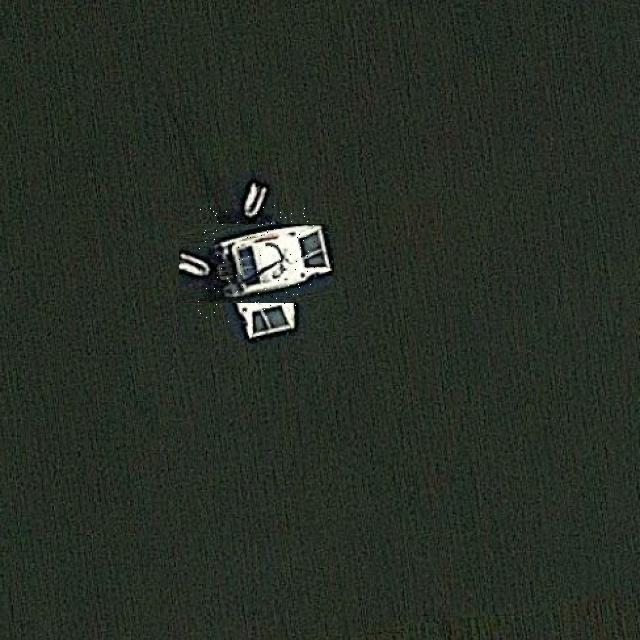boat: (198, 205, 315, 322)
